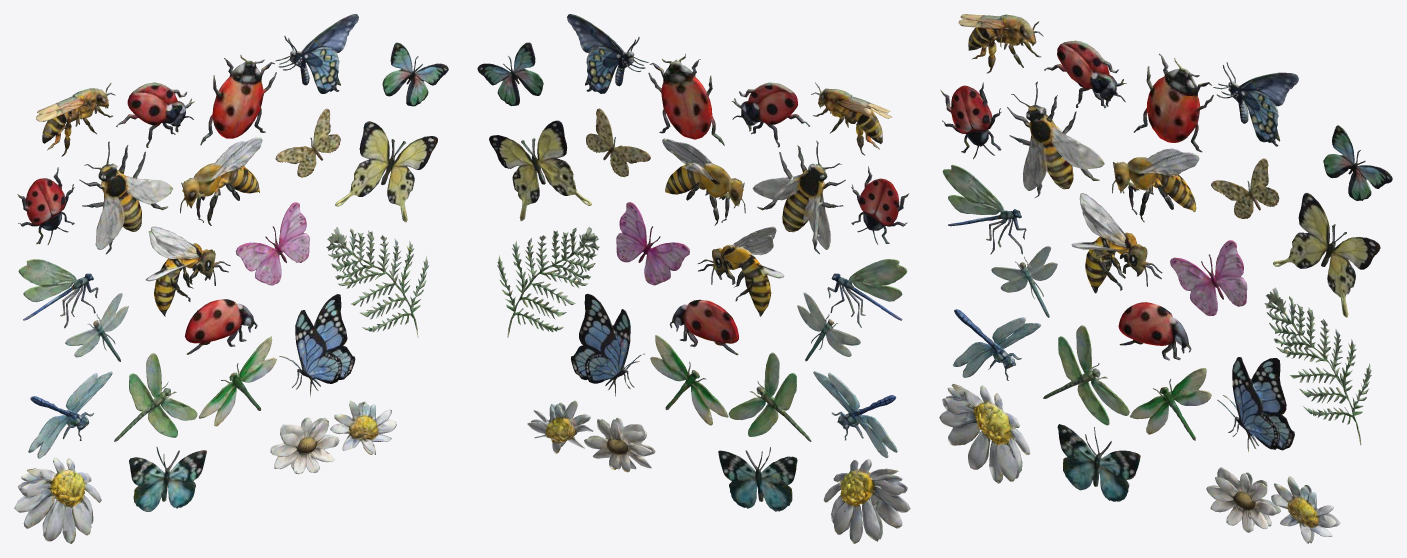
3 renders of one model, left to right at view 1: azimuth 30°, elevation 25°; view 2: azimuth 150°, elevation 25°; view 3: azimuth 330°, elevation 25°, orthographic. The views are drawn at different scales.
Parts seen in each view (by area): view 1: Mesh 1, Mesh 25, Mesh 7, Mesh 23, Mesh 22, Mesh 16, Mesh 12, Mesh 10, Mesh 13, Mesh 17, Mesh 21, Mesh 8 (+12 smaller); view 2: Mesh 1, Mesh 25, Mesh 23, Mesh 7, Mesh 22, Mesh 16, Mesh 10, Mesh 12, Mesh 13, Mesh 17, Mesh 21, Mesh 8 (+12 smaller); view 3: Mesh 1, Mesh 25, Mesh 7, Mesh 23, Mesh 22, Mesh 16, Mesh 12, Mesh 10, Mesh 13, Mesh 17, Mesh 21, Mesh 8 (+12 smaller).
Part boxes in pixels (<box>): Mesh 1: <box>14,457,101,543</box>; Mesh 25: <box>335,121,437,222</box>; Mesh 7: <box>79,141,172,254</box>; Mesh 23: <box>326,227,428,337</box>; Mesh 22: <box>279,294,355,396</box>; Mesh 16: <box>200,54,276,145</box>; Mesh 12: <box>145,226,230,316</box>; Mesh 10: <box>129,447,206,511</box>; Mesh 13: <box>180,137,262,225</box>; Mesh 17: <box>235,202,309,285</box>; Mesh 21: <box>275,14,358,93</box>; Mesh 8: <box>114,353,197,441</box>; Mesh 1: <box>823,459,910,543</box>; Mesh 25: <box>489,120,591,221</box>; Mesh 23: <box>497,227,599,337</box>; Mesh 7: <box>752,140,845,254</box>; Mesh 22: <box>571,294,644,396</box>; Mesh 16: <box>648,53,724,145</box>; Mesh 10: <box>718,447,797,511</box>; Mesh 12: <box>697,226,784,316</box>; Mesh 13: <box>662,138,745,225</box>; Mesh 17: <box>616,202,689,285</box>; Mesh 21: <box>567,14,648,93</box>; Mesh 8: <box>728,352,811,441</box>; Mesh 1: <box>939,384,1030,483</box>; Mesh 25: <box>1273,193,1380,317</box>; Mesh 7: <box>1007,81,1104,198</box>; Mesh 23: <box>1264,287,1371,445</box>; Mesh 22: <box>1217,357,1294,451</box>; Mesh 16: <box>1133,53,1213,152</box>; Mesh 12: <box>1071,193,1162,293</box>; Mesh 10: <box>1057,424,1140,501</box>; Mesh 13: <box>1112,148,1199,222</box>; Mesh 17: <box>1170,240,1247,315</box>; Mesh 21: <box>1213,62,1298,146</box>; Mesh 8: <box>1043,325,1129,425</box>.
Size of the model in its own units: 1.77 by 1.8 by 0.0616.
Materials: 24 (24 with a texture image).
